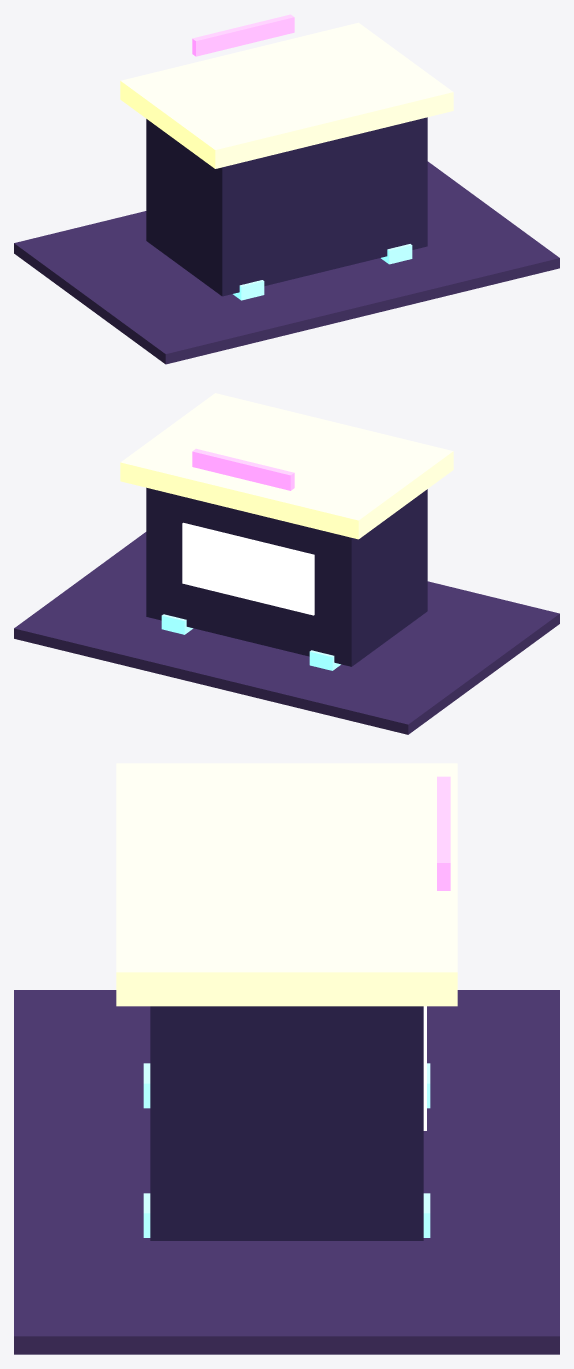
The model's file is 18_neon_food_cart.glb.
3 views of the same model, one above another, from view 1: azimuth 30°, elevation 25°; view 2: azimuth 150°, elevation 25°; view 3: azimuth 270°, elevation 25° (orthographic). The views are drawn at different scales.
Visible parts, largest first — view 1: pad_0, cart_1, canopy_2, menu_4, wheelpod_5, wheelpod_6; view 2: pad_0, cart_1, canopy_2, counter_3, menu_4, wheelpod_8, wheelpod_7; view 3: pad_0, canopy_2, cart_1, menu_4.
Part boxes in pixels (x1,y1,x2,y2): pad_0: [14, 161, 559, 364]; cart_1: [146, 117, 427, 296]; canopy_2: [120, 22, 453, 168]; menu_4: [192, 14, 294, 56]; wheelpod_5: [233, 280, 264, 300]; wheelpod_6: [381, 244, 412, 264]; pad_0: [14, 532, 559, 734]; cart_1: [146, 487, 427, 666]; canopy_2: [120, 393, 453, 539]; counter_3: [182, 522, 314, 615]; menu_4: [192, 448, 294, 490]; wheelpod_8: [161, 614, 193, 634]; wheelpod_7: [309, 650, 340, 670]; pad_0: [14, 990, 559, 1354]; canopy_2: [116, 763, 457, 1006]; cart_1: [150, 1006, 423, 1240]; menu_4: [437, 776, 450, 890].
Size of the model in its own units: 4.8 by 2.34 by 3.2.
